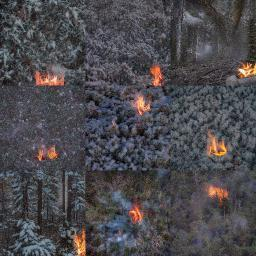Small fire: (31, 134, 72, 171), (28, 65, 77, 93), (139, 56, 175, 91), (197, 130, 237, 161), (123, 194, 152, 233), (64, 223, 96, 255), (127, 89, 161, 118), (197, 181, 234, 207), (232, 55, 256, 85)
